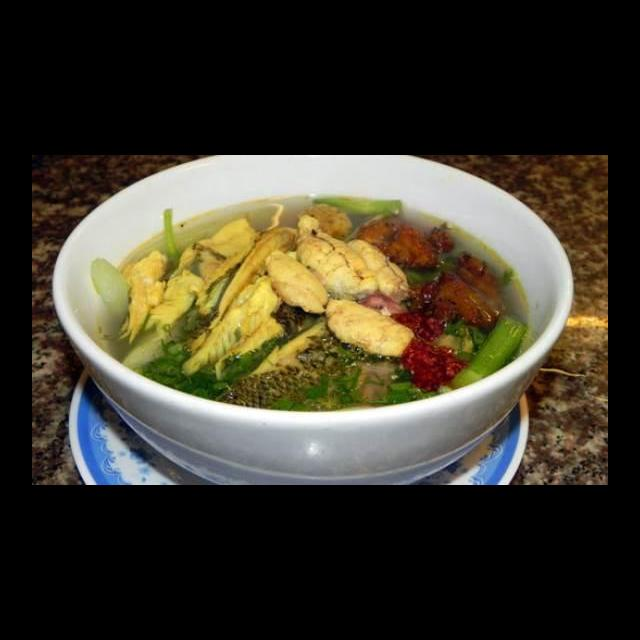ca: (207, 289, 417, 420), (174, 270, 286, 378), (115, 244, 170, 348), (175, 218, 260, 279), (262, 249, 337, 317)
